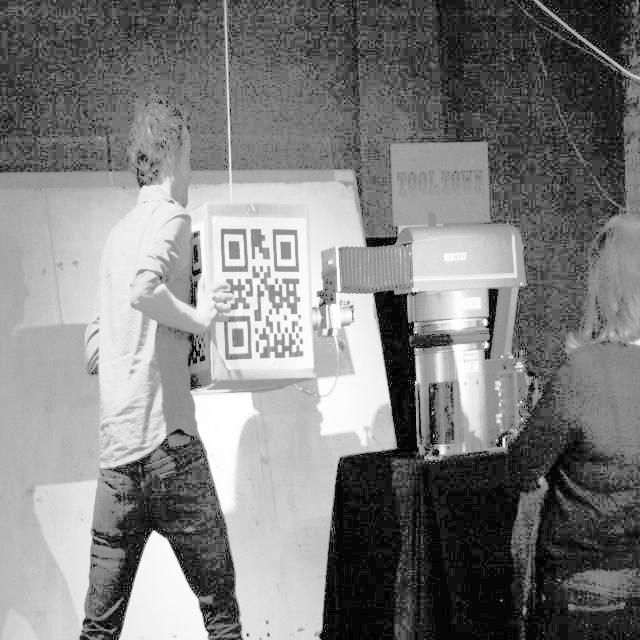qr_code: (221, 229, 304, 360)
